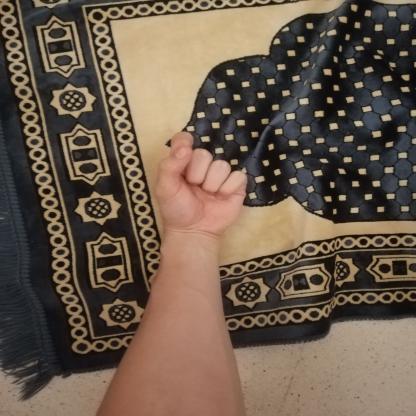FAA: (146, 122, 260, 242)
